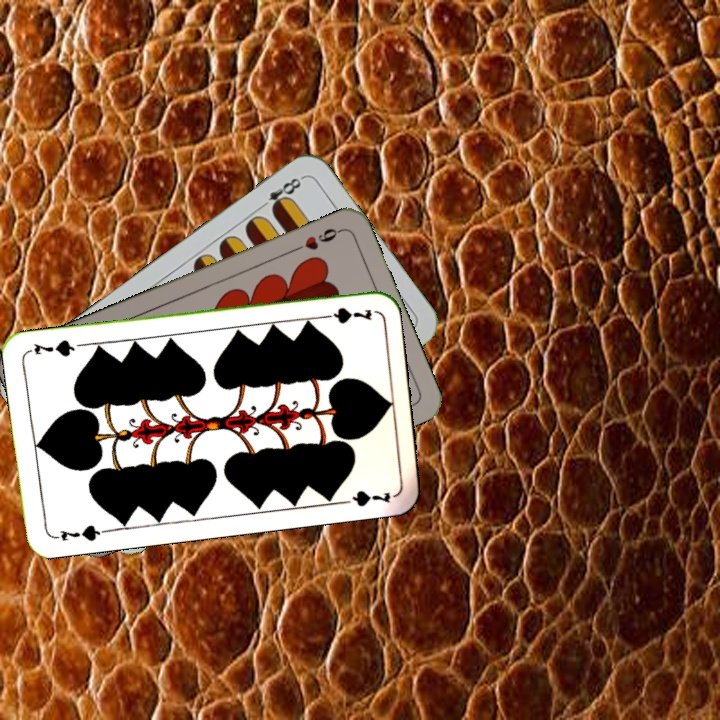E8: (254, 172, 306, 215)
G7: (49, 521, 109, 544), (315, 303, 374, 326)
H9: (288, 224, 345, 255)
